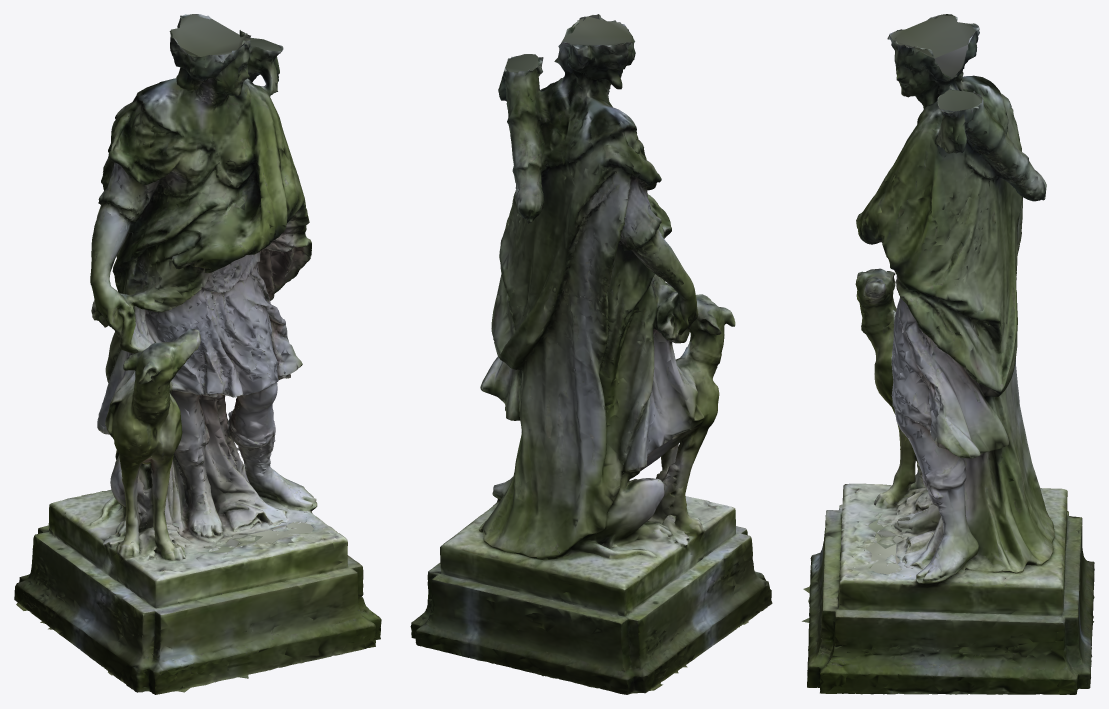
Rendered from goddess_artemis.glb.
3 views of the same model, side by side, from view 1: azimuth 30°, elevation 25°; view 2: azimuth 150°, elevation 25°; view 3: azimuth 270°, elevation 25° (orthographic). The views are drawn at different scales.
Parts seen in each view (by area): view 1: Object_2; view 2: Object_2; view 3: Object_2.
Boxes of the visible parts, left/top/right/bottom form: Object_2: left=14, top=14, right=381, bottom=694; Object_2: left=410, top=14, right=772, bottom=694; Object_2: left=802, top=14, right=1094, bottom=694.
Bounding box in the file's own units: 12.09 × 28.01 × 12.25.
Materials: 1 (1 with a texture image).
